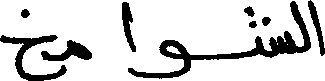ا: (118, 0, 136, 52), (308, 0, 324, 57)
خ: (0, 6, 58, 79)
ش: (239, 3, 296, 58)
ل: (294, 0, 309, 54)
م: (65, 37, 92, 70)
و: (158, 37, 189, 79)
